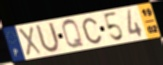4: (126, 8, 144, 39)
5: (101, 10, 126, 42)
C: (81, 17, 104, 45)
Q: (61, 19, 86, 51)
U: (34, 21, 62, 55)
X: (16, 26, 44, 58)
